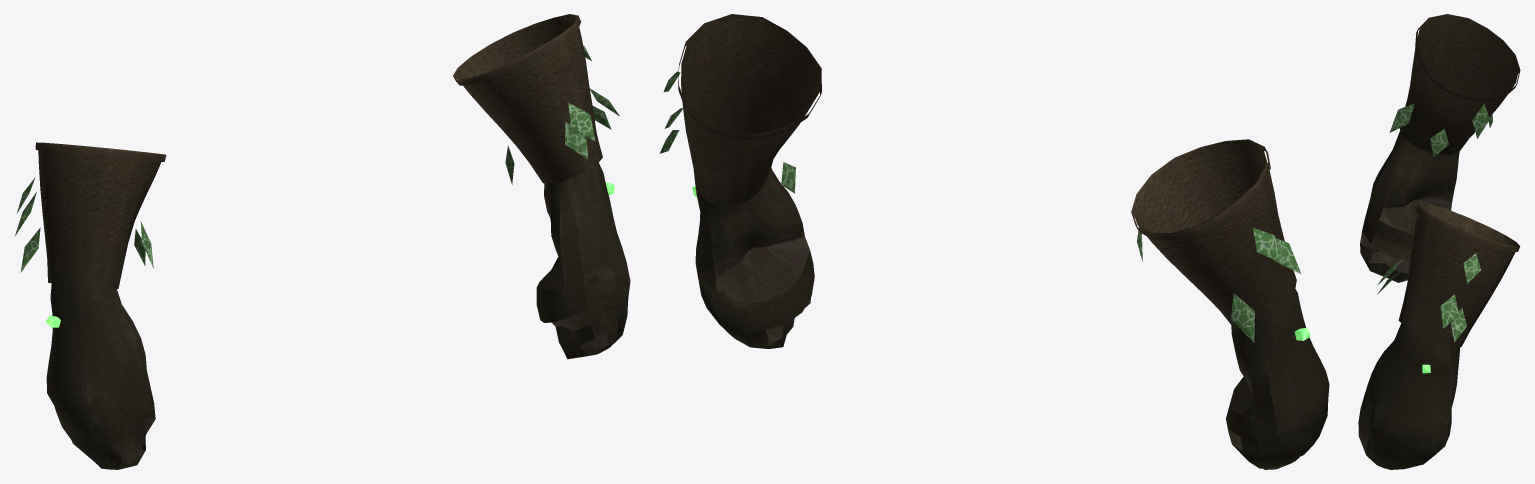
The model's file is Luvas_de_Couro_nivel50.glb.
The picture shows the model from 3 angles, left to right: view 1: azimuth 30°, elevation 25°; view 2: azimuth 150°, elevation 25°; view 3: azimuth 270°, elevation 25°; orthographic projection. The views are drawn at different scales.
Visible parts, largest first — view 1: luvas_de_couro_nivel50; view 2: luvas_de_couro_nivel50; view 3: luvas_de_couro_nivel50.
Part boxes in pixels (box(x1,y1,x2,y2)): luvas_de_couro_nivel50: box(14, 14, 630, 469); luvas_de_couro_nivel50: box(659, 14, 1329, 469); luvas_de_couro_nivel50: box(1358, 14, 1520, 469).
Bounding box in the file's own units: 0.7036 × 0.3555 × 0.1997.
1 material, 1 textured.
